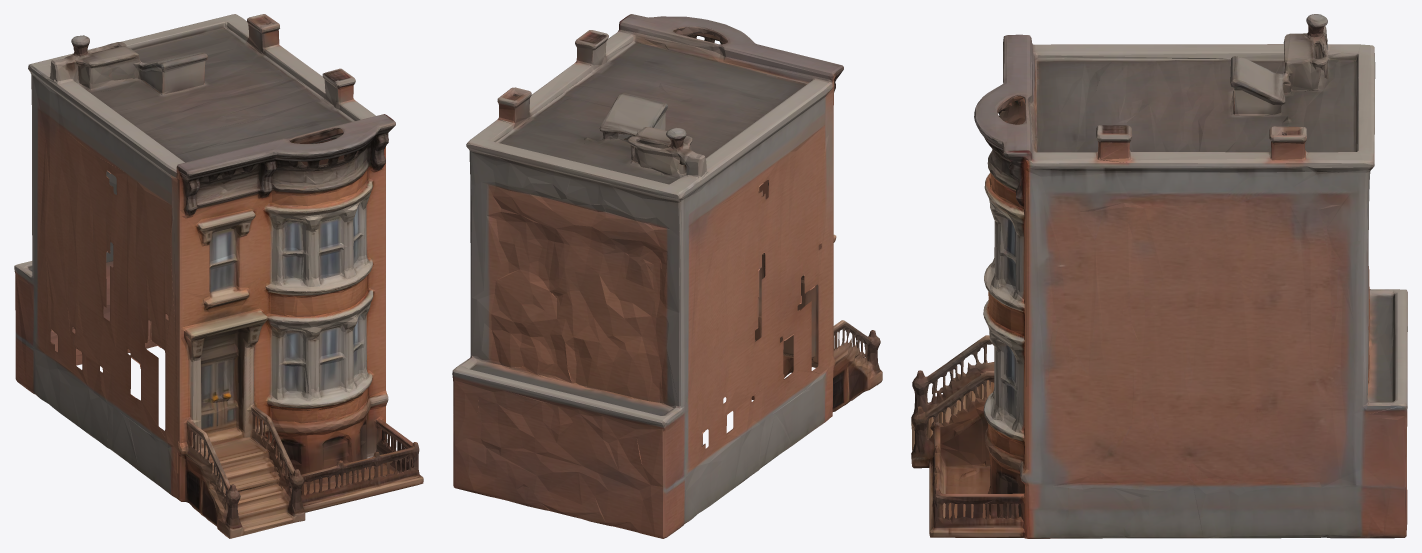
File: bay_rowhouse.glb
3 renders of one model, left to right at view 1: azimuth 30°, elevation 25°; view 2: azimuth 150°, elevation 25°; view 3: azimuth 270°, elevation 25°, orthographic. The views are drawn at different scales.
Parts seen in each view (by area): view 1: material; view 2: material; view 3: material.
Boxes of the visible parts, x1,y1,x2,y2 form: material: (14, 14, 423, 538); material: (452, 14, 882, 538); material: (911, 14, 1407, 538).
Size of the model in its own units: 0.4608 by 0.7716 by 0.8168.
1 material, 1 textured.
